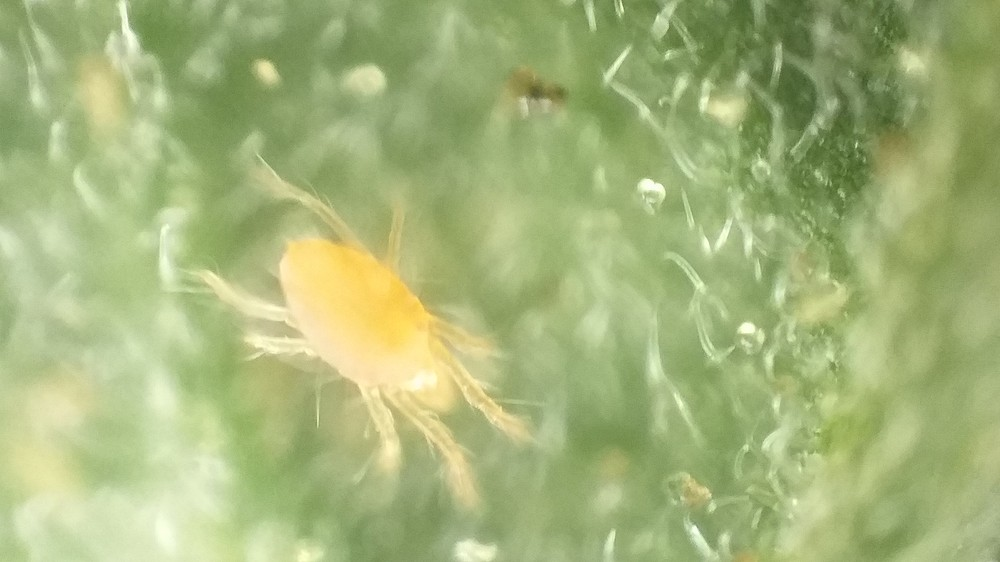Aracnido Rojo: (186, 152, 568, 518)
